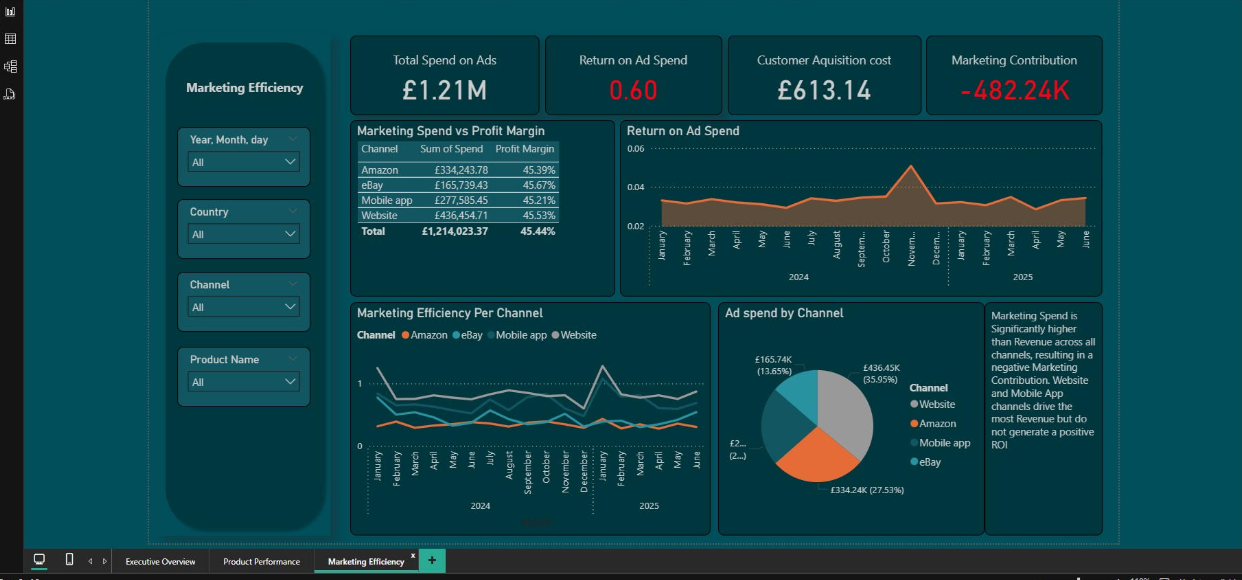

Layout of this report page (visuals, bound fields, positions):
{"tool":"powerbi","page":{"name":"Marketing Efficiency","canvas":[1280,720],"ordinal":2},"visuals":[{"type":"shape","box":[12.6,49.6,226.6,660.4],"z":0},{"type":"slicer","title":"Date","fields":{"Values":["DimDate.Year Hierarchy.Year","DimDate.Year Hierarchy.Month","DimDate.Year Hierarchy.day"]},"box":[37.2,170.5,175.9,78.9],"z":1000},{"type":"slicer","fields":{"Values":["ecom_orders.Country"]},"box":[37.2,265.7,175.9,78.9],"z":2000},{"type":"slicer","fields":{"Values":["ecom_orders.Channel"]},"box":[37.2,361.8,175.9,78.9],"z":3000},{"type":"slicer","fields":{"Values":["ecom_products.ProductName"]},"box":[37.2,460.7,175.9,78.9],"z":4000},{"type":"textbox","box":[26.3,102.1,199.4,45.7],"z":5000},{"type":"cardVisual","fields":{"Data":["ecom_orders.Return on Ad Spend"]},"box":[523.2,49.9,234,105.2],"z":6000},{"type":"cardVisual","fields":{"Data":["ecom_orders.Customer Aquisition cost"]},"box":[764.4,49.9,255.7,105.2],"z":7000},{"type":"cardVisual","fields":{"Data":["Sum(ecom_marketing_spend.Spend)"]},"box":[265.7,49.9,250.3,105.2],"z":8000},{"type":"areaChart","title":"Return on Ad Spend","fields":{"Y":["ecom_orders.Return on Ad Spend"],"Category":["DimDate.Year","DimDate.Month"]},"box":[622.5,161.5,637.1,233.4],"z":9000},{"type":"pieChart","title":"Ad spend by Channel","fields":{"Category":["ecom_marketing_spend.Channel"],"Y":["Sum(ecom_marketing_spend.Spend)"]},"box":[751.7,401.7,351.8,308.3],"z":10000},{"type":"cardVisual","fields":{"Data":["ecom_orders.Marketing Contribution"]},"box":[1026.5,49.9,233,105.2],"z":11000},{"type":"lineChart","title":"Marketing Efficiency Per Channel","fields":{"Category":["DimDate.Year Hierarchy.Year","DimDate.Year Hierarchy.Month"],"Y":["ecom_orders.Marketing Efficiency Ratio"],"Series":["ecom_marketing_spend.Channel"]},"box":[265.7,401.7,476.1,308.3],"z":12000},{"type":"tableEx","title":"Marketing Spend vs Profit Margin","fields":{"Values":["ecom_marketing_spend.Channel","Sum(ecom_marketing_spend.Spend)","ecom_orders.Profit Margin"]},"box":[265.5,161.5,350.2,233.4],"z":13000},{"type":"textbox","box":[1103.6,401.7,156,308.3],"z":14000}]}

Visuals, with their boxes on the page's 1280x720 design canvas (x1, y1, x2, y2). These are canvas units, not pixel positions in the 1242x580 screenshot, which may show the page scaled, cropped or inside an application window:
shape: box(13, 50, 239, 710)
"Date" slicer: box(37, 170, 213, 249)
slicer - ecom_orders.Country: box(37, 266, 213, 345)
slicer - ecom_orders.Channel: box(37, 362, 213, 441)
slicer - ecom_products.ProductName: box(37, 461, 213, 540)
textbox: box(26, 102, 226, 148)
cardVisual - ecom_orders.Return on Ad Spend: box(523, 50, 757, 155)
cardVisual - ecom_orders.Customer Aquisition cost: box(764, 50, 1020, 155)
cardVisual - Sum(ecom_marketing_spend.Spend): box(266, 50, 516, 155)
"Return on Ad Spend" areaChart: box(622, 162, 1260, 395)
"Ad spend by Channel" pieChart: box(752, 402, 1104, 710)
cardVisual - ecom_orders.Marketing Contribution: box(1026, 50, 1260, 155)
"Marketing Efficiency Per Channel" lineChart: box(266, 402, 742, 710)
"Marketing Spend vs Profit Margin" tableEx: box(266, 162, 616, 395)
textbox: box(1104, 402, 1260, 710)
